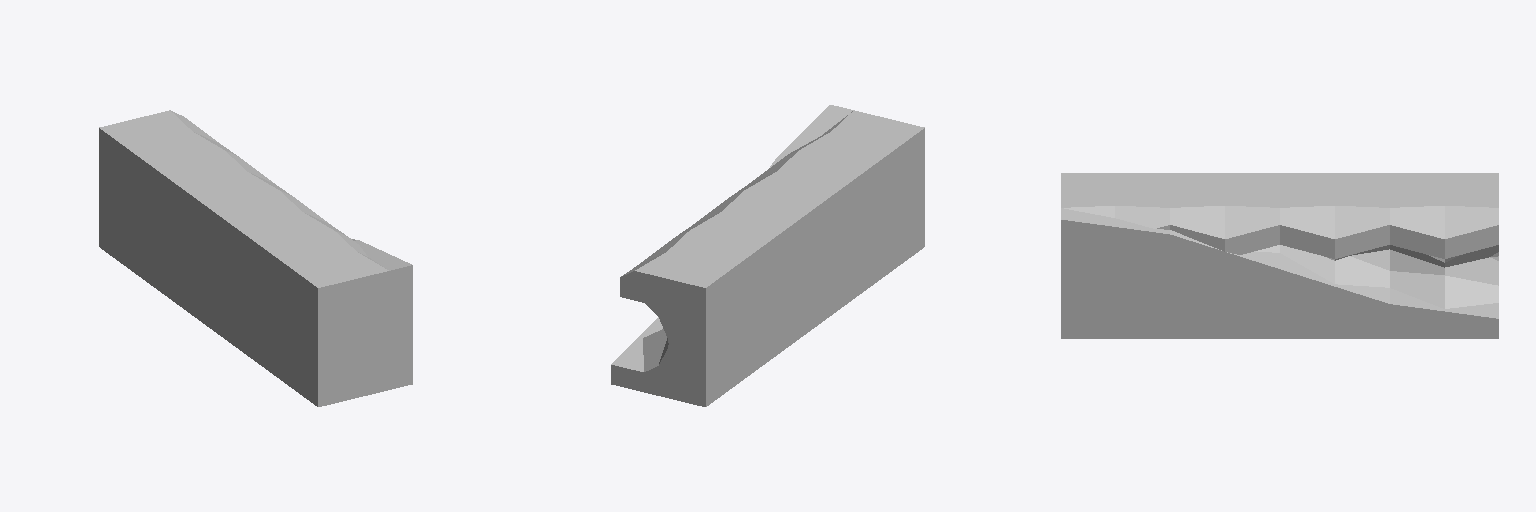
The model's file is Cliff_Base_Top_Joined_Hill_Gentle.obj.
3 views of the same model, side by side, from view 1: azimuth 30°, elevation 25°; view 2: azimuth 150°, elevation 25°; view 3: azimuth 270°, elevation 25° (orthographic).
Visible parts, largest first — view 1: object1; view 2: object1; view 3: object1.
Boxes of the visible parts, x1,y1,x2,y2 form: object1: [99, 110, 412, 406]; object1: [611, 105, 924, 406]; object1: [1061, 173, 1498, 338].
Size of the model in its own units: 1 by 1.2 by 4.